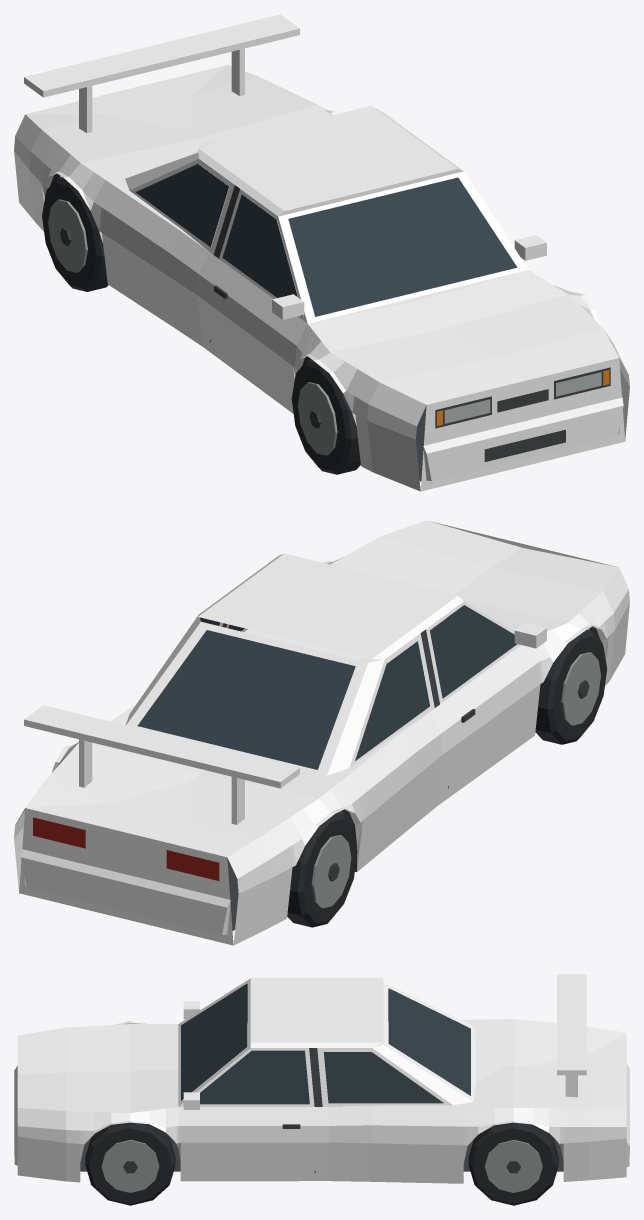
File: kanaya_hayate_corrida.glb
3 views of the same model, one above another, from view 1: azimuth 30°, elevation 25°; view 2: azimuth 150°, elevation 25°; view 3: azimuth 270°, elevation 25° (orthographic). The views are drawn at different scales.
Visible parts, largest first — view 1: kanaya_hayate_corrida; view 2: kanaya_hayate_corrida; view 3: kanaya_hayate_corrida.
Part boxes in pixels (x1,y1,x2,y2): kanaya_hayate_corrida: (14, 14, 629, 491); kanaya_hayate_corrida: (14, 520, 629, 945); kanaya_hayate_corrida: (14, 974, 629, 1205).
Size of the model in its own units: 1.77 by 1.2 by 4.53.
Materials: 8 (1 with a texture image).
